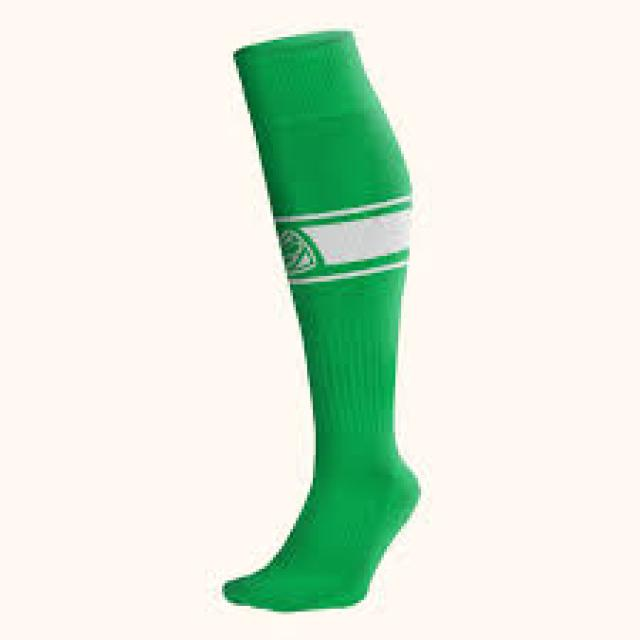sock: (219, 26, 421, 612)
